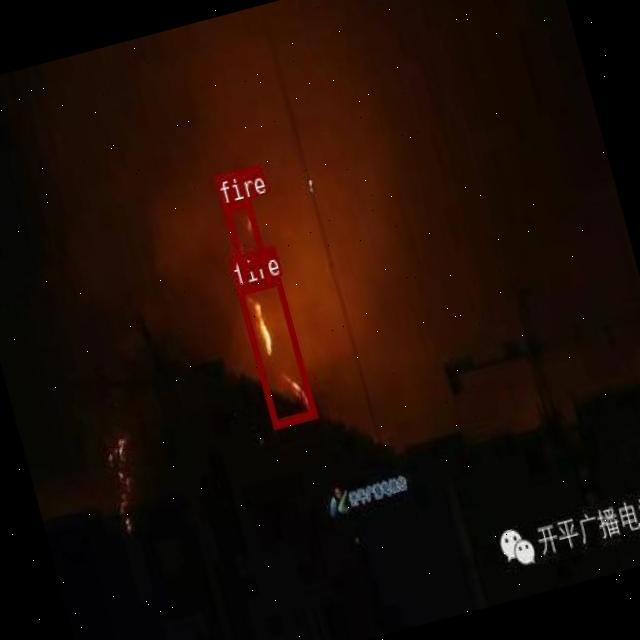fire: (236, 275, 316, 427), (222, 198, 266, 272)
